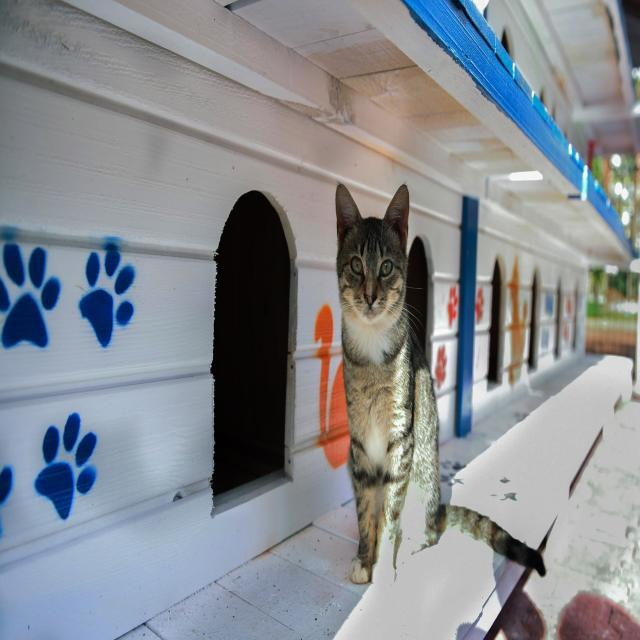cat: (336, 185, 545, 585)
